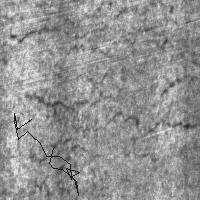crazing: (26, 76, 198, 133), (8, 22, 169, 62), (14, 113, 79, 195), (29, 135, 106, 195)
